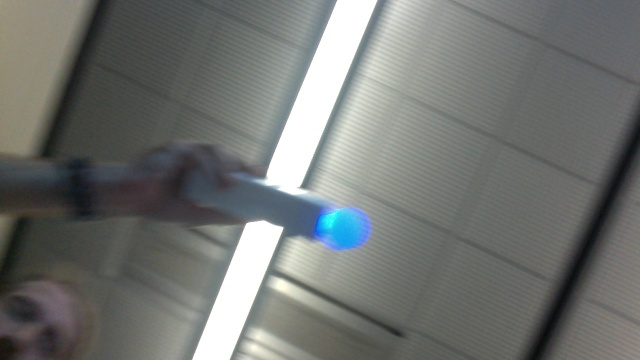wand: (320, 205, 369, 249)
